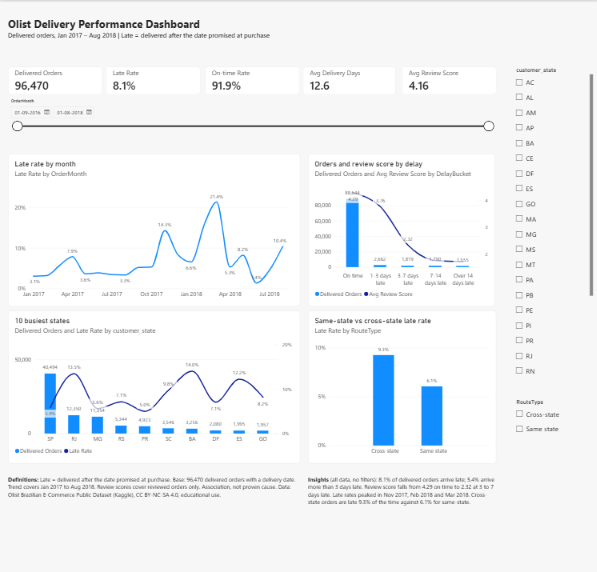

The page's visual inventory and layout, read from the dashboard file:
{"tool":"powerbi","page":{"name":"Page 1","canvas":[1500,1440],"ordinal":0},"visuals":[{"type":"cardVisual","fields":{"Data":["Orders_Model.Delivered Orders"]},"box":[20,162,236,70],"z":0},{"type":"cardVisual","fields":{"Data":["Orders_Model.Late Rate"]},"box":[266,162,236,70],"z":1000},{"type":"cardVisual","fields":{"Data":["Orders_Model.On-time Rate"]},"box":[512,162,236,70],"z":2000},{"type":"cardVisual","fields":{"Data":["Orders_Model.Avg Delivery Days"]},"box":[758,162,232,70],"z":3000},{"type":"cardVisual","fields":{"Data":["Orders_Model.Avg Review Score"]},"box":[1004,162,236,70],"z":4000},{"type":"slicer","fields":{"Values":["Orders_Model.customer_state"]},"box":[1283.3,163.3,200,773.3],"z":5000},{"type":"slicer","fields":{"Values":["Orders_Model.RouteType"]},"box":[1283.3,993.3,200,273.3],"z":6000},{"type":"slicer","fields":{"Values":["Orders_Model.OrderMonth"]},"box":[20,242,1218,122],"z":7000},{"type":"lineChart","title":"Late rate by month","fields":{"Category":["Orders_Model.OrderMonth"],"Y":["Orders_Model.Late Rate"]},"box":[20,380,730,382.5],"z":8000},{"type":"lineClusteredColumnComboChart","title":"Orders and review score by delay","fields":{"Category":["Orders_Model.DelayBucket"],"Y":["Orders_Model.Delivered Orders"],"Y2":["Orders_Model.Avg Review Score"]},"box":[770,380,468,382],"z":9000},{"type":"lineClusteredColumnComboChart","title":"10 busiest states","fields":{"Category":["Orders_Model.customer_state"],"Y":["Orders_Model.Delivered Orders"],"Y2":["Orders_Model.Late Rate"]},"box":[20,772.5,730,382.5],"z":10000},{"type":"clusteredColumnChart","title":"Same-state vs cross-state late rate","fields":{"Category":["Orders_Model.RouteType"],"Y":["Orders_Model.Late Rate"]},"box":[770,772.5,470,382.5],"z":11000},{"type":"textbox","box":[20,36.7,1345,87.5],"z":12000},{"type":"textbox","box":[20,1185,736,100],"z":13000},{"type":"textbox","box":[770,1185,470,80],"z":14000}]}

Visuals, with their boxes in screenshot pixels (x1, y1, x2, y2), scaled from the page's 1500x1440 canvas onto the 597x572 screenshot:
cardVisual - Orders_Model.Delivered Orders: locate(8, 64, 102, 92)
cardVisual - Orders_Model.Late Rate: locate(106, 64, 200, 92)
cardVisual - Orders_Model.On-time Rate: locate(204, 64, 298, 92)
cardVisual - Orders_Model.Avg Delivery Days: locate(302, 64, 394, 92)
cardVisual - Orders_Model.Avg Review Score: locate(400, 64, 494, 92)
slicer - Orders_Model.customer_state: locate(511, 65, 590, 372)
slicer - Orders_Model.RouteType: locate(511, 395, 590, 503)
slicer - Orders_Model.OrderMonth: locate(8, 96, 493, 145)
"Late rate by month" lineChart: locate(8, 151, 298, 303)
"Orders and review score by delay" lineClusteredColumnComboChart: locate(306, 151, 493, 303)
"10 busiest states" lineClusteredColumnComboChart: locate(8, 307, 298, 459)
"Same-state vs cross-state late rate" clusteredColumnChart: locate(306, 307, 494, 459)
textbox: locate(8, 15, 543, 49)
textbox: locate(8, 471, 301, 510)
textbox: locate(306, 471, 494, 502)
